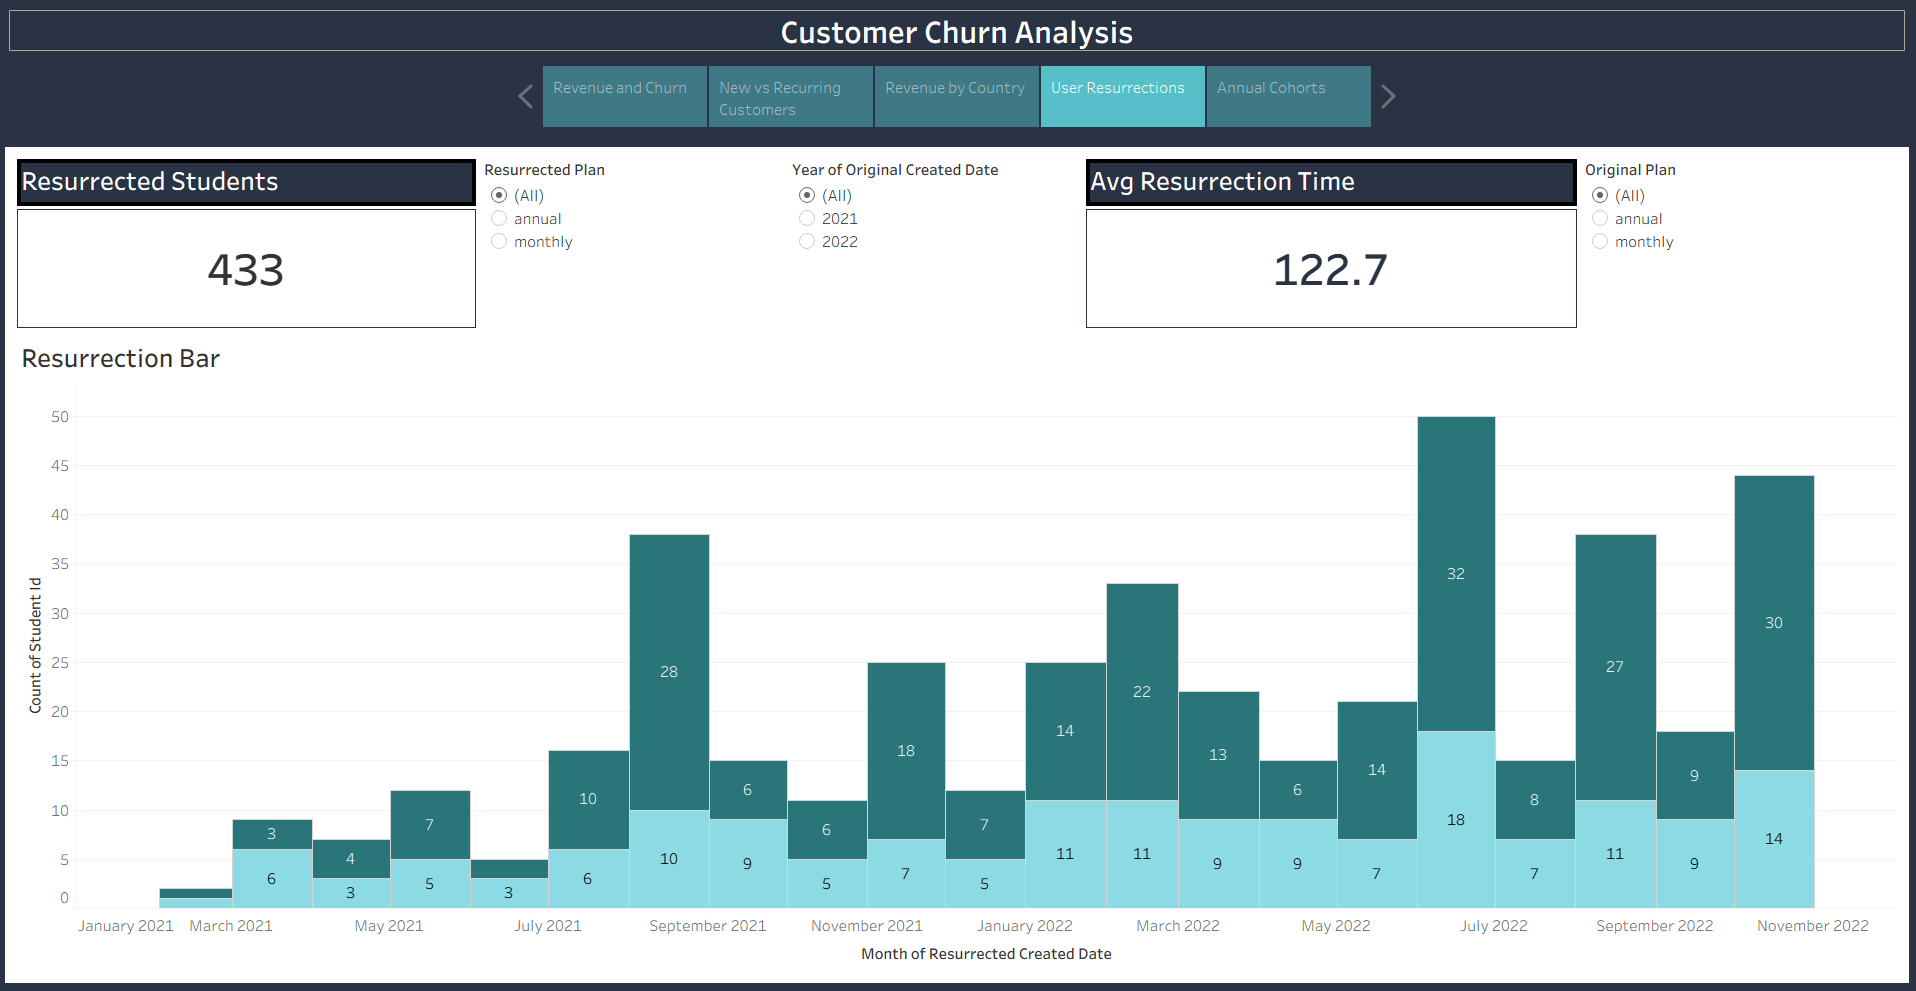

This screenshot's page, from the dashboard's own definition file:
{"tool":"tableau","page":{"name":"User Ressurections","canvas":[1000,1000],"units":"permille","ordinal":3},"visuals":[{"type":"worksheet","title":"Total Ressurections","mark":"Automatic","box":[4.8,10,245,211]},{"type":"filter","title":"Resurrection Bar","param":"[federated.0553y771ig7vne1dr7vo41h41vdv].[none:resurrected plan:nk]","box":[249.8,10,161.7,211]},{"type":"filter","title":"Resurrection Bar","param":"[federated.0553y771ig7vne1dr7vo41h41vdv].[yr:original created date:ok]","box":[411.6,10,153.9,211]},{"type":"worksheet","title":"Avg Resurrection Date","mark":"Automatic","box":[565.5,10,261.9,211]},{"type":"filter","title":"Resurrection Bar","param":"[federated.0553y771ig7vne1dr7vo41h41vdv].[none:original plan:nk]","box":[827.4,10,167.8,211]},{"type":"worksheet","title":"Resurrection Bar","mark":"Bar","rows":["student_id"],"cols":["resurrected created date"],"box":[4.8,221,990.3,769]}]}

Visuals, with their boxes on the dashboard's canvas, which has no fixed pixel size, in thousandths of its width and height (x1, y1, x2, y2). These are canvas units, not pixel positions in the 1916x991 screenshot, which may show the page scaled, cropped or inside an application window:
"Total Ressurections" worksheet: select_region(5, 10, 250, 221)
"Resurrection Bar" filter: select_region(250, 10, 412, 221)
"Resurrection Bar" filter: select_region(412, 10, 566, 221)
"Avg Resurrection Date" worksheet: select_region(566, 10, 827, 221)
"Resurrection Bar" filter: select_region(827, 10, 995, 221)
"Resurrection Bar" worksheet (Bar marks): select_region(5, 221, 995, 990)
